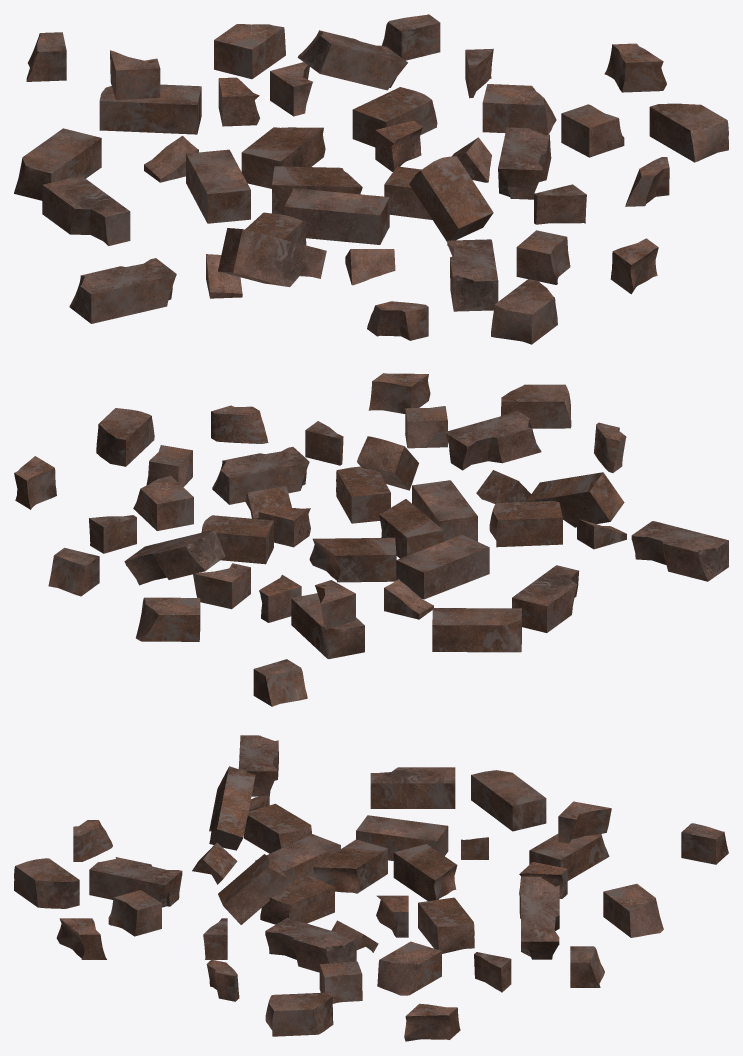
The model's file is DebrisBricks01_1.FBX.
3 renders of one model, top to bottom at view 1: azimuth 30°, elevation 25°; view 2: azimuth 150°, elevation 25°; view 3: azimuth 270°, elevation 25°, orthographic. The views are drawn at different scales.
Parts seen in each view (by area): view 1: DebrisBricks01; view 2: DebrisBricks01; view 3: DebrisBricks01.
Part boxes in pixels (bbox=[...]): DebrisBricks01: bbox=[14, 14, 728, 344]; DebrisBricks01: bbox=[14, 373, 728, 706]; DebrisBricks01: bbox=[14, 735, 728, 1041].
Size of the model in its own units: 217 by 21.42 by 232.
